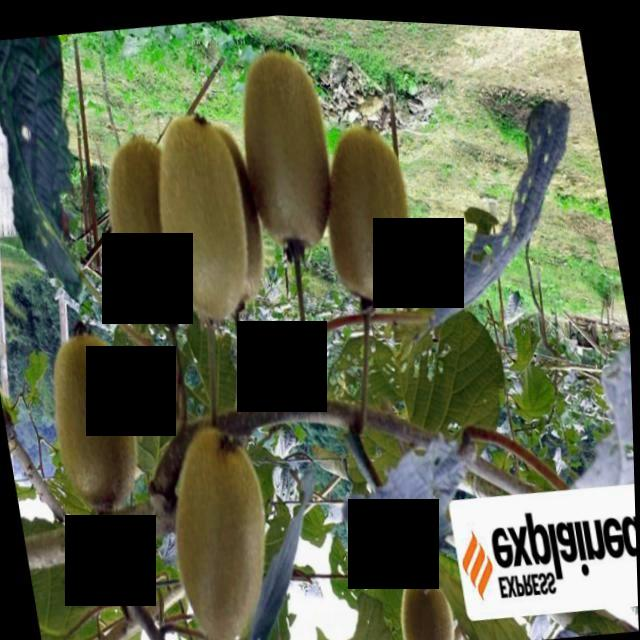kiwi: (157, 414, 289, 640), (146, 102, 267, 334), (230, 40, 351, 265), (313, 113, 432, 321), (38, 312, 153, 523), (98, 124, 207, 329)
